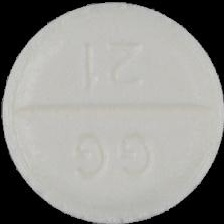0781-1818: (0, 0, 224, 224)
